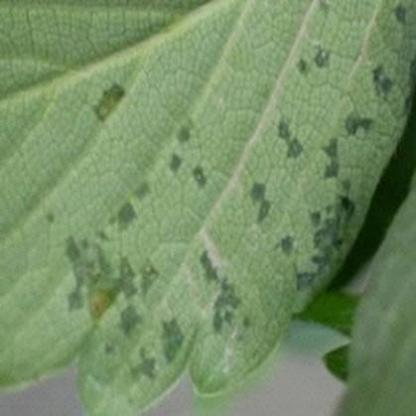Strawberry_Angular_LeafSpot: (35, 0, 415, 407)
